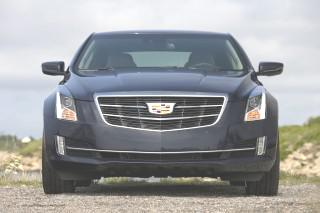cadillac: (141, 97, 179, 119)
